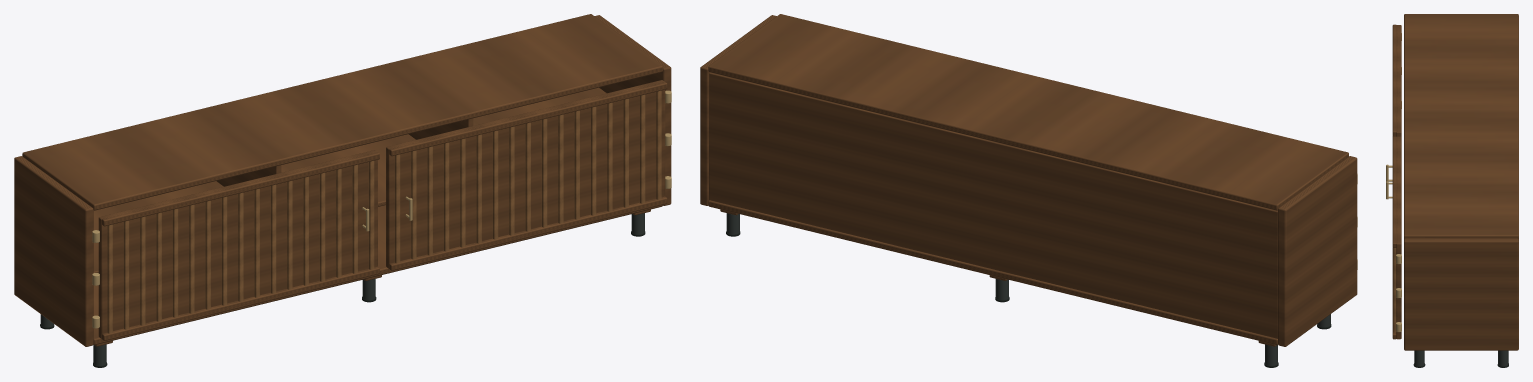
The model's file is cabinet.glb.
3 views of the same model, side by side, from view 1: azimuth 30°, elevation 25°; view 2: azimuth 150°, elevation 25°; view 3: azimuth 270°, elevation 25° (orthographic). The views are drawn at different scales.
Parts seen in each view (by area): view 1: cabinet / Oiled walnut, cabinet / Oiled walnut.002, cabinet / Oiled walnut.001, cabinet / Desk oak edge, cabinet / Desk oak edge.001, cabinet / Warm graphite steel; view 2: cabinet / Oiled walnut, cabinet / Warm graphite steel; view 3: cabinet / Oiled walnut, cabinet / Oiled walnut.002, cabinet / Oiled walnut.001, cabinet / Warm graphite steel, cabinet / Desk oak edge.001, cabinet / Brushed warm brass.001.
Boxes of the visible parts, bbox=[...] form: cabinet / Oiled walnut: bbox=[14, 14, 671, 346]; cabinet / Oiled walnut.002: bbox=[386, 80, 667, 270]; cabinet / Oiled walnut.001: bbox=[98, 150, 379, 340]; cabinet / Desk oak edge: bbox=[107, 161, 374, 333]; cabinet / Desk oak edge.001: bbox=[394, 90, 661, 263]; cabinet / Warm graphite steel: bbox=[40, 213, 644, 365]; cabinet / Oiled walnut: bbox=[700, 14, 1357, 346]; cabinet / Warm graphite steel: bbox=[726, 213, 1330, 365]; cabinet / Oiled walnut: bbox=[1404, 14, 1518, 350]; cabinet / Oiled walnut.002: bbox=[1392, 136, 1401, 339]; cabinet / Oiled walnut.001: bbox=[1392, 24, 1401, 136]; cabinet / Warm graphite steel: bbox=[1414, 350, 1508, 366]; cabinet / Desk oak edge.001: bbox=[1393, 248, 1396, 332]; cabinet / Brushed warm brass.001: bbox=[1386, 181, 1401, 332].
Size of the model in its own units: 2.44 by 0.68 by 0.601.
5 materials, 2 textured.
